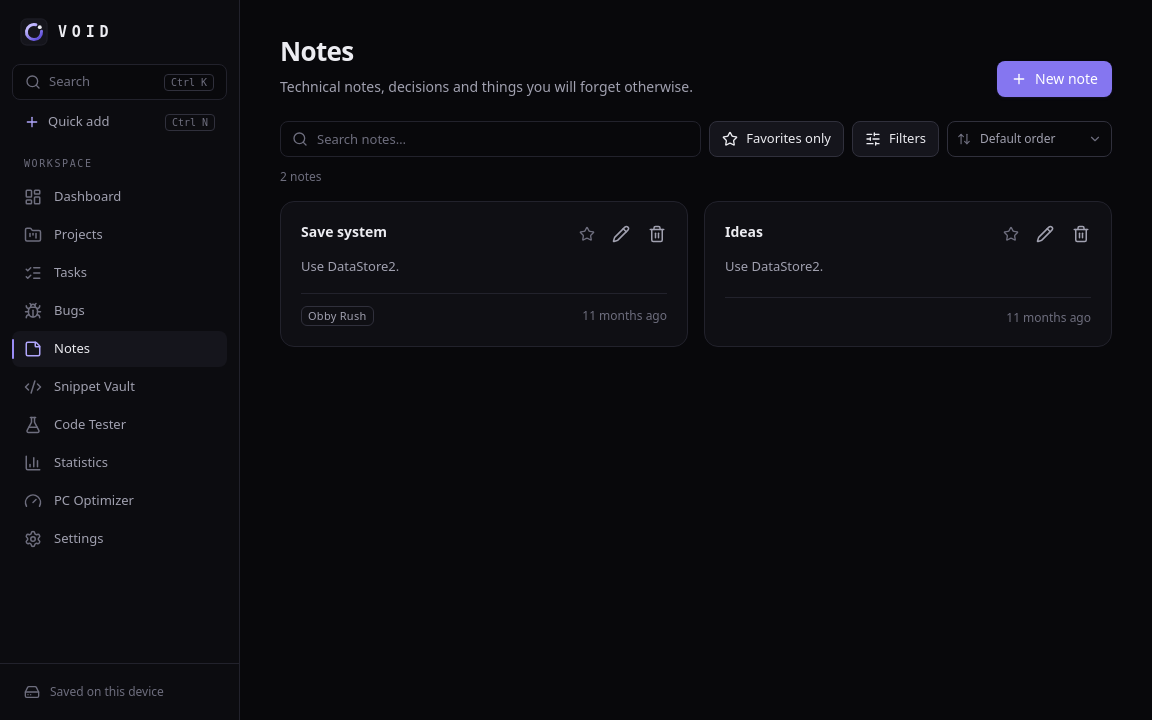
undo after delete › restores a deleted note
Click the button named "Delete Ideas": {"x": 1081, "y": 234} top-left (1063, 216), bottom-right (1099, 252)
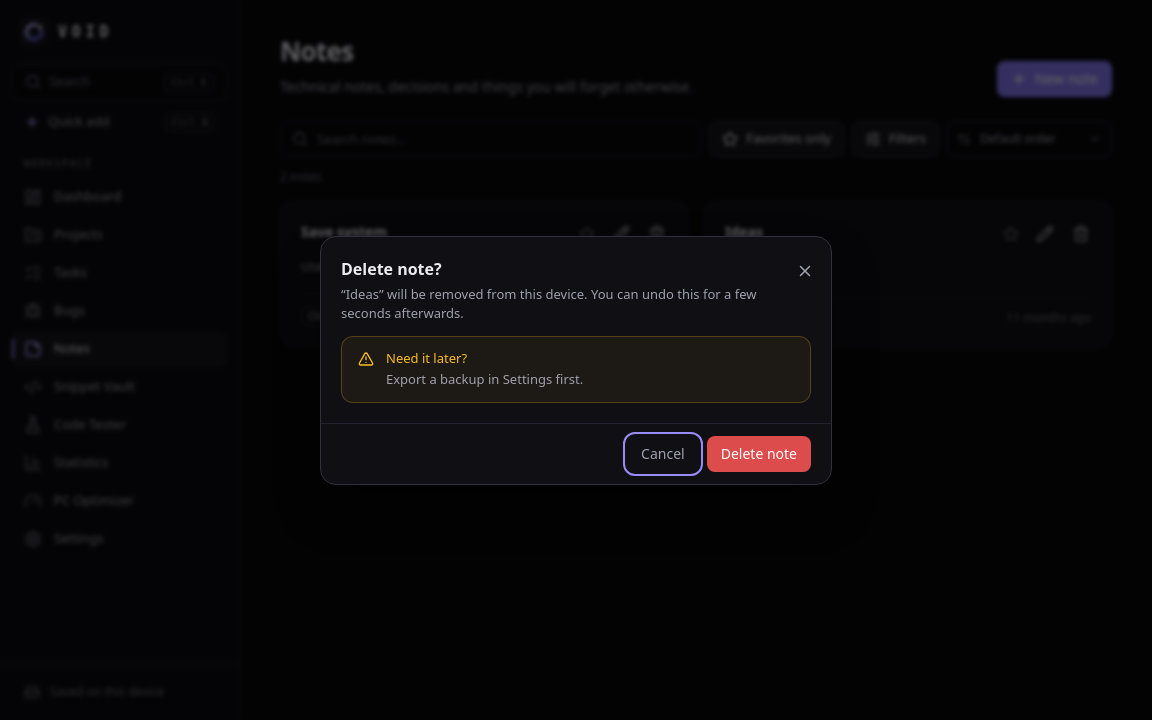
Click the button "Delete note": {"x": 759, "y": 454} top-left (707, 436), bottom-right (811, 472)
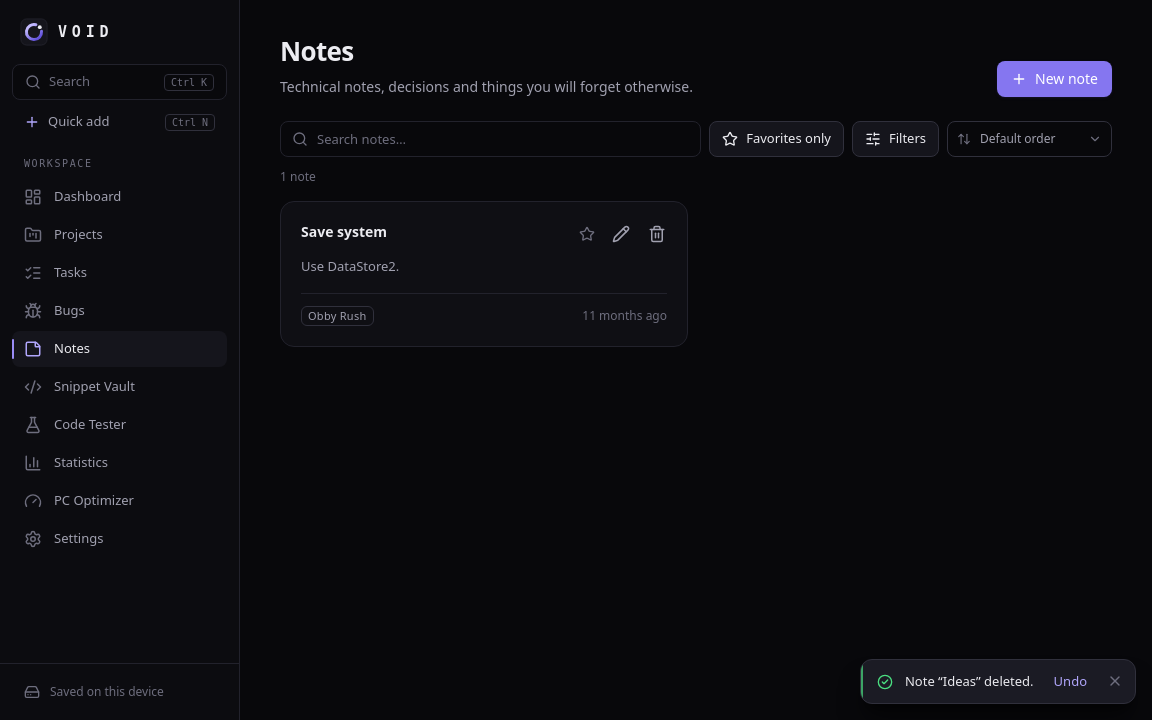
Click the button "Undo": {"x": 1070, "y": 681} top-left (1046, 670), bottom-right (1095, 693)
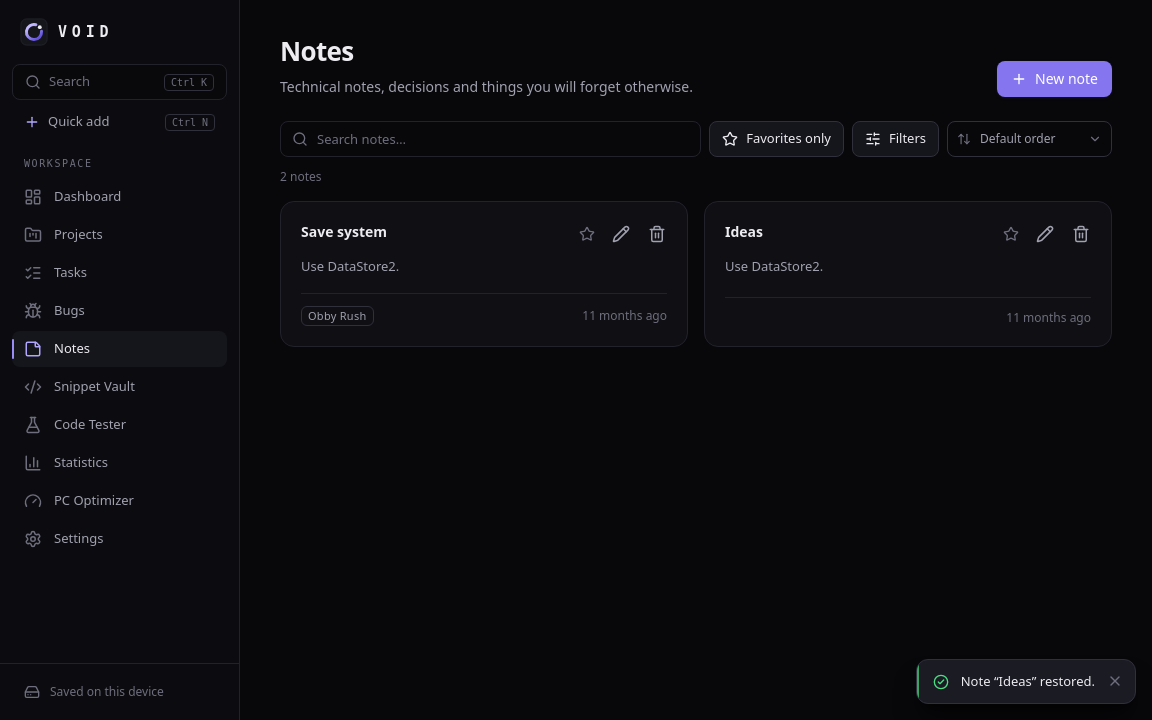
Result: the heading "Ideas" is shown at top-left (725, 222), bottom-right (763, 242)
